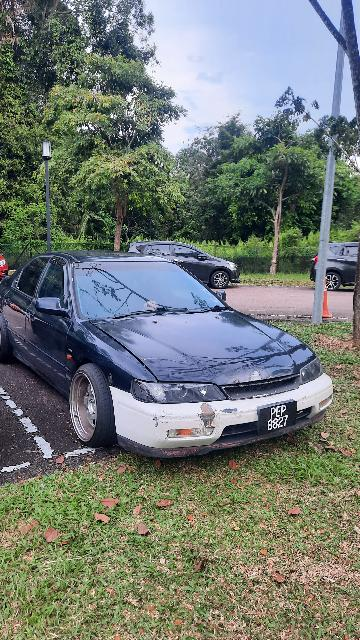License_Plate: (257, 398, 302, 446)
car: (2, 241, 339, 456)
